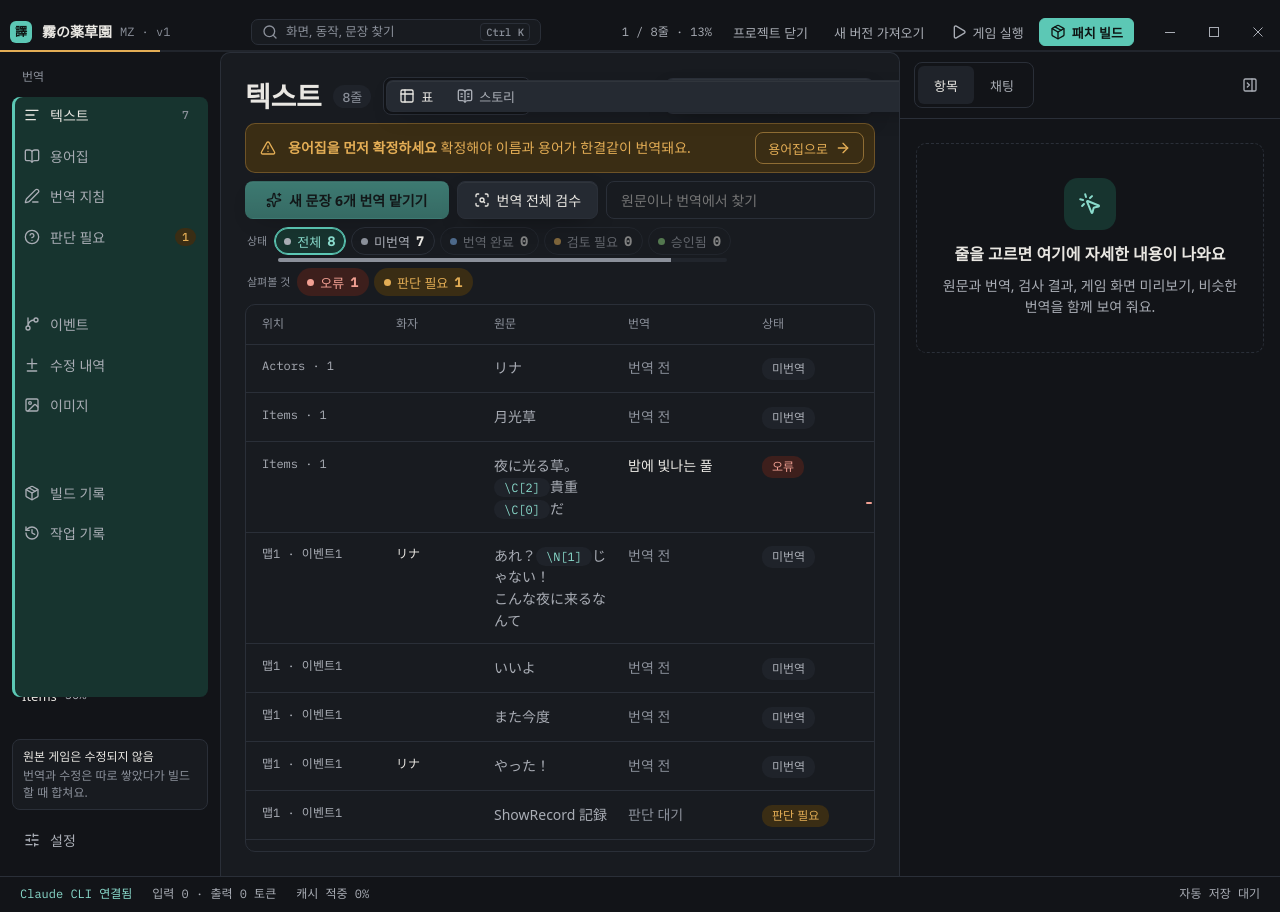
Scenario: 설정에 지난 빌드의 폰트 크기와 없는 글자 수
Expected: the text "霧の薬草園" is shown, [42,21,112,43]
What coordinates should you click on to do the following:
click the button "설정"
I would click on:
 (110, 840)
Its box is [12,820,208,860].
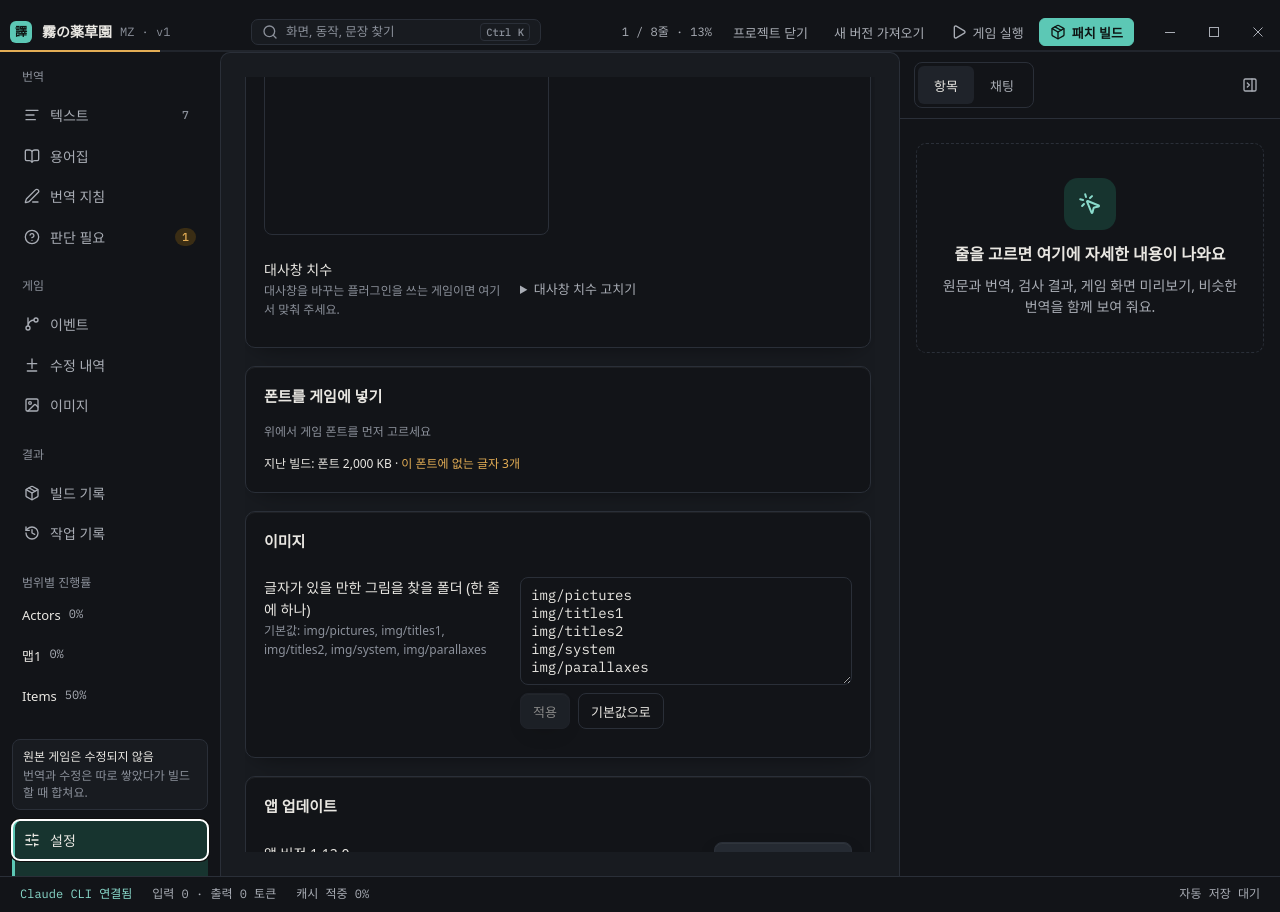
Expected: the text "이 폰트에 없는 글자 3개" is shown, [401,455,520,472]
Expected: the text "지난 빌드: 폰트 2,000 KB · 이 폰트에 없는 글자 3개" is shown, [264,455,520,472]
